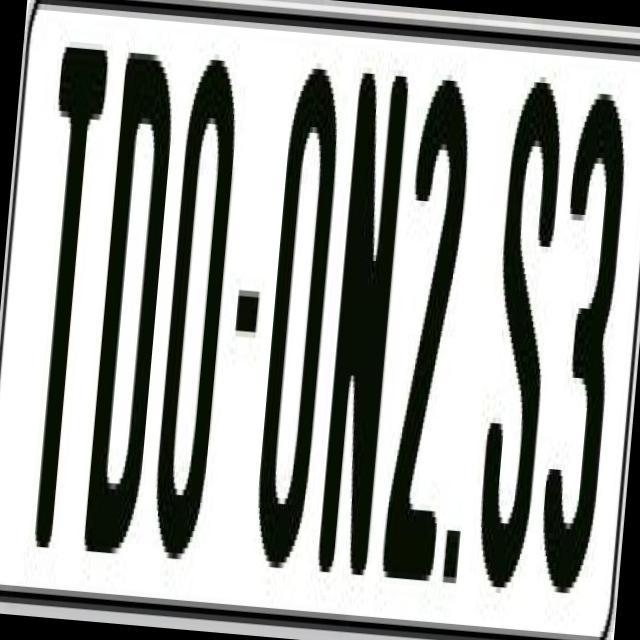0: (146, 58, 248, 578), (250, 66, 344, 586)
2: (380, 72, 481, 587)
3: (534, 91, 634, 595)
D: (83, 41, 178, 554)
N: (314, 54, 408, 558)
S: (472, 74, 566, 588)
T: (17, 41, 112, 566)
